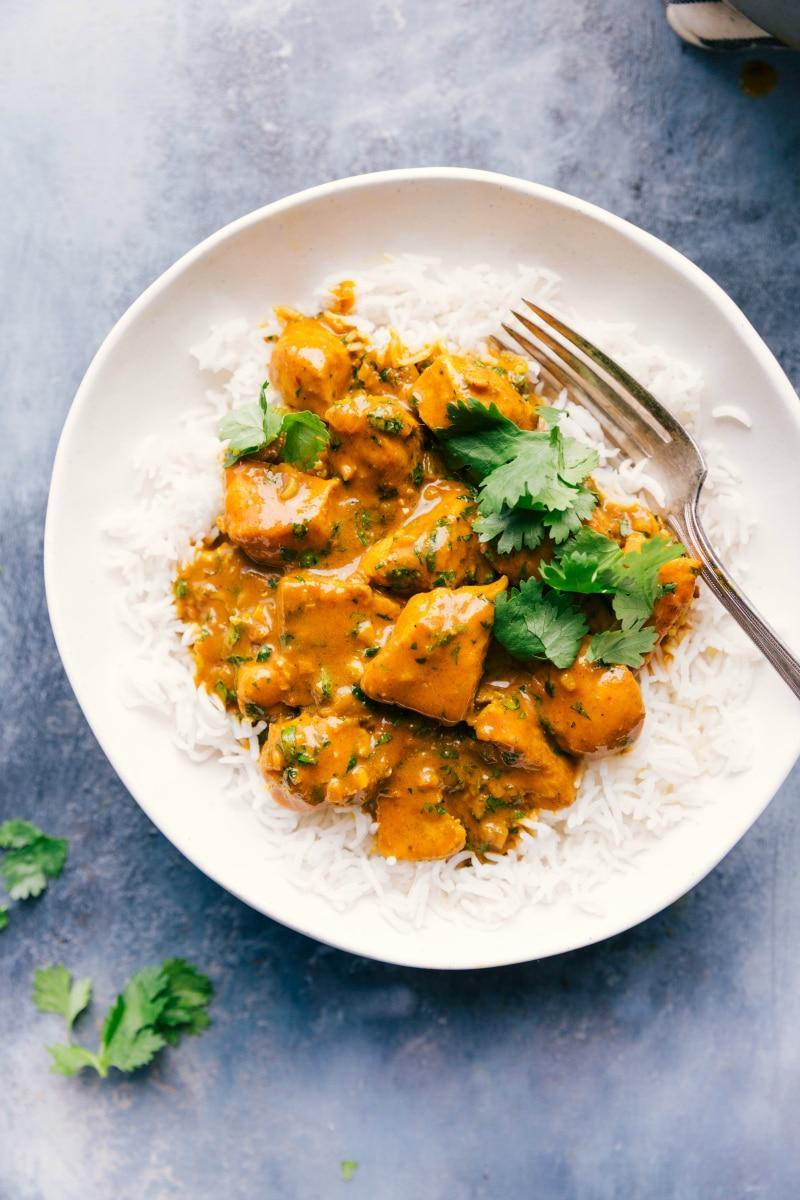chicken: (223, 312, 680, 846)
